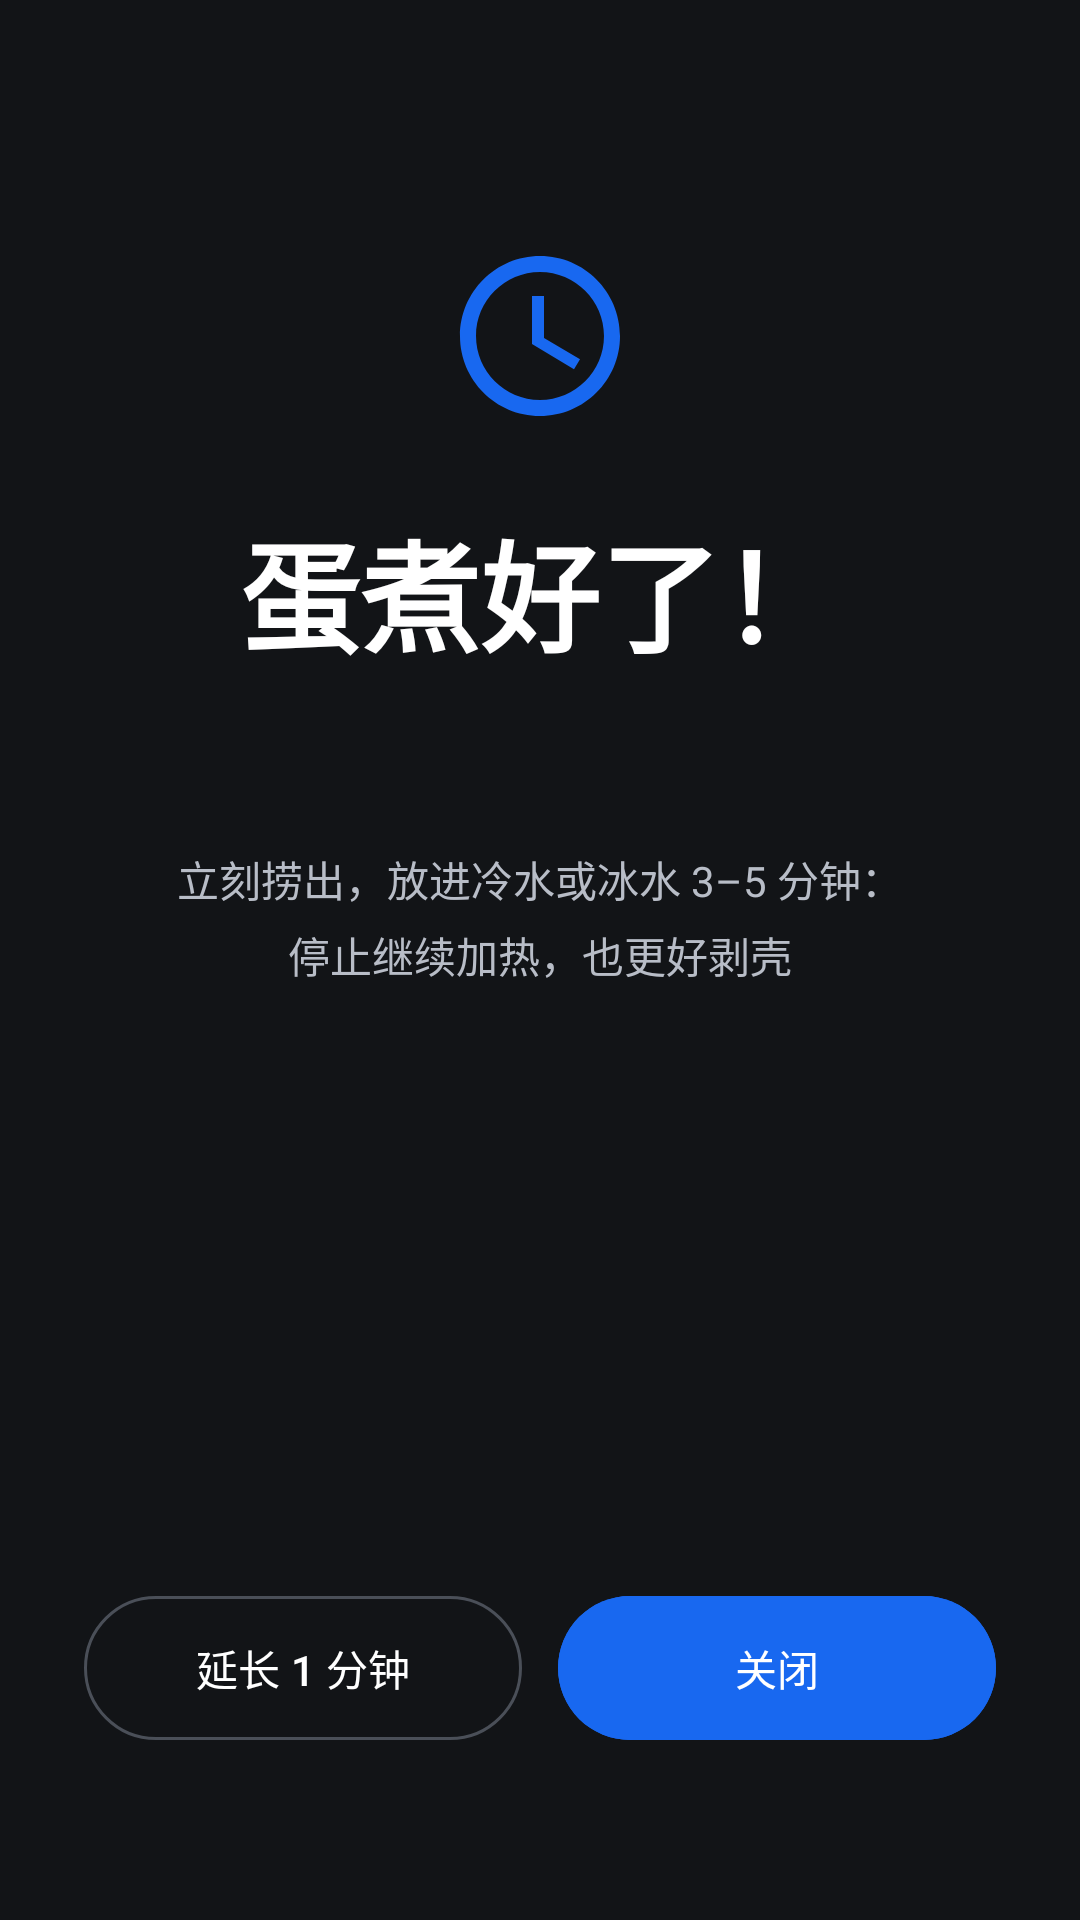

Named icons in this screenshot (1080×1920) and their centers, (x=x, y=y):
clock: (x=540, y=336)
